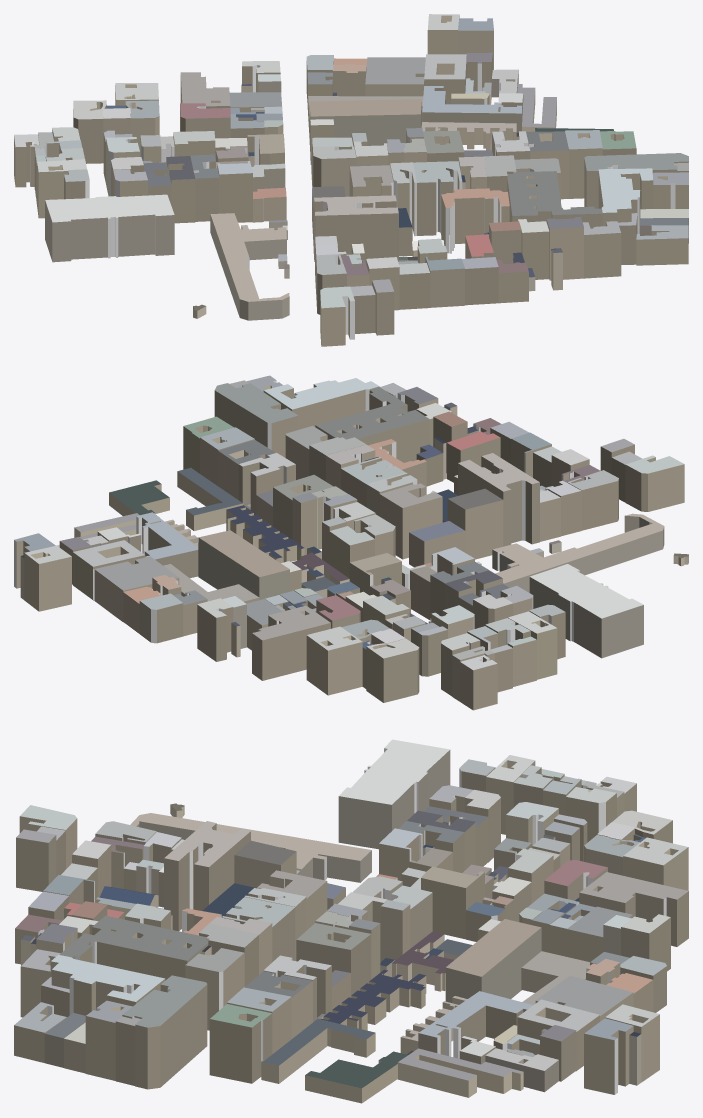
The picture shows the model from 3 angles, top to bottom: view 1: azimuth 30°, elevation 25°; view 2: azimuth 150°, elevation 25°; view 3: azimuth 270°, elevation 25°; orthographic projection. The views are drawn at different scales.
Visible parts, largest first — view 1: tuile; view 2: tuile; view 3: tuile.
Boxes of the visible parts, left/top/right/bottom form: tuile: left=14, top=14, right=688, bottom=346; tuile: left=14, top=375, right=688, bottom=710; tuile: left=14, top=739, right=688, bottom=1103.
Bounding box in the file's own units: 294 × 35.51 × 268.
